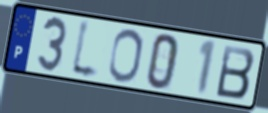0: (145, 32, 180, 92)
1: (196, 38, 218, 97)
3: (36, 15, 69, 74)
B: (214, 43, 257, 101)
L: (68, 17, 102, 84)
O: (107, 27, 145, 84)
